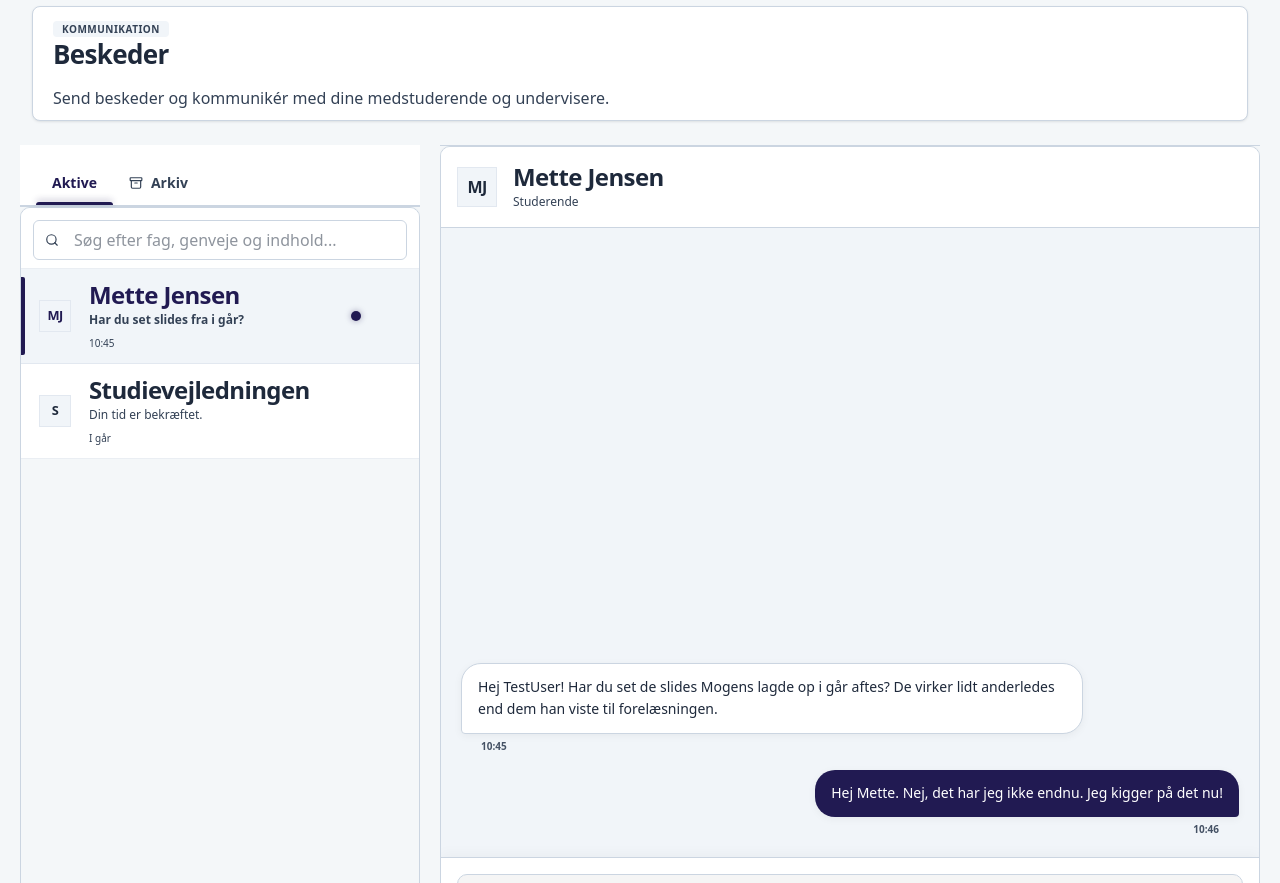
Scenario: Messages Page › shows empty state in archive view with no archived messages
Click the tab with test id "tab-archive": click(158, 183) [113, 161, 204, 205]
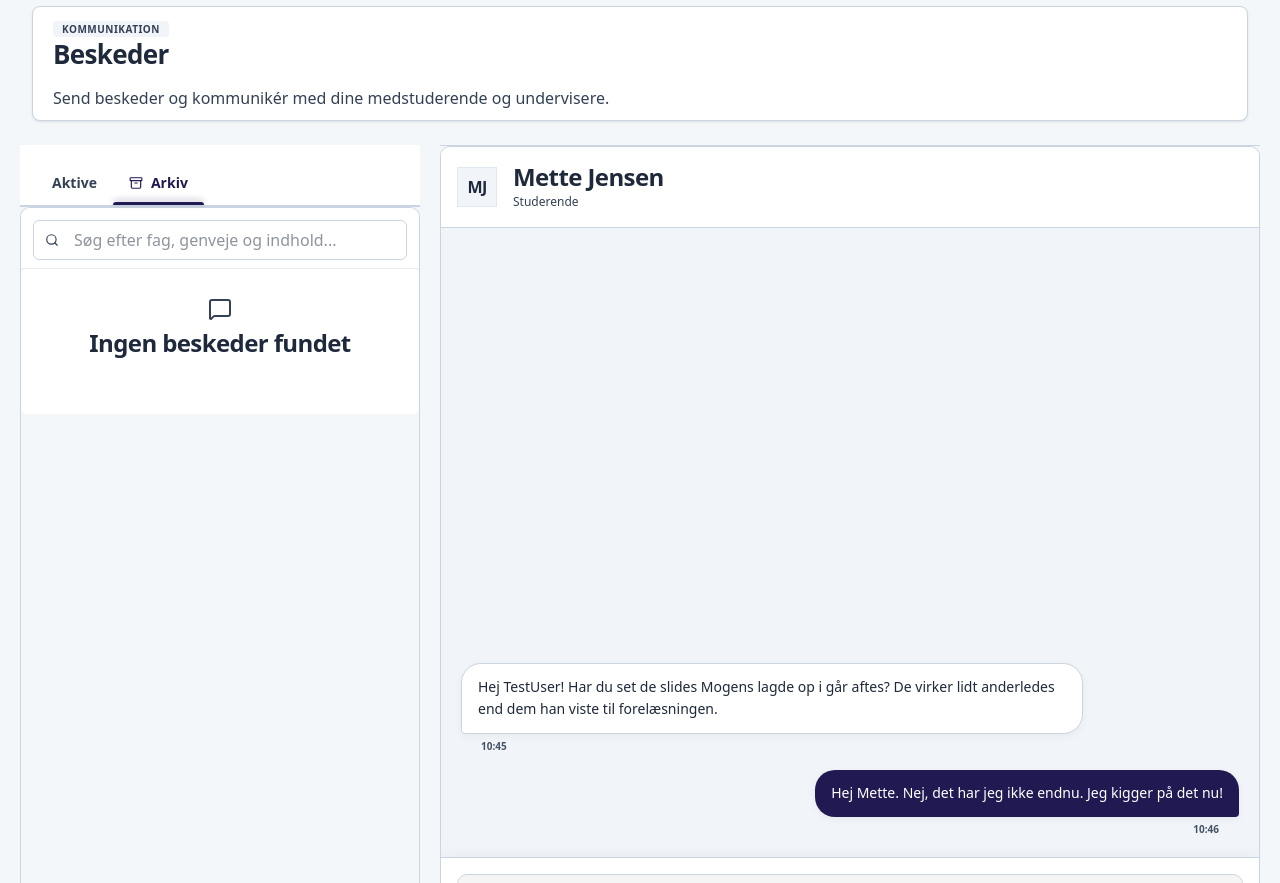
Result: the heading "Ingen beskeder fundet" is shown at [89, 329, 351, 358]
